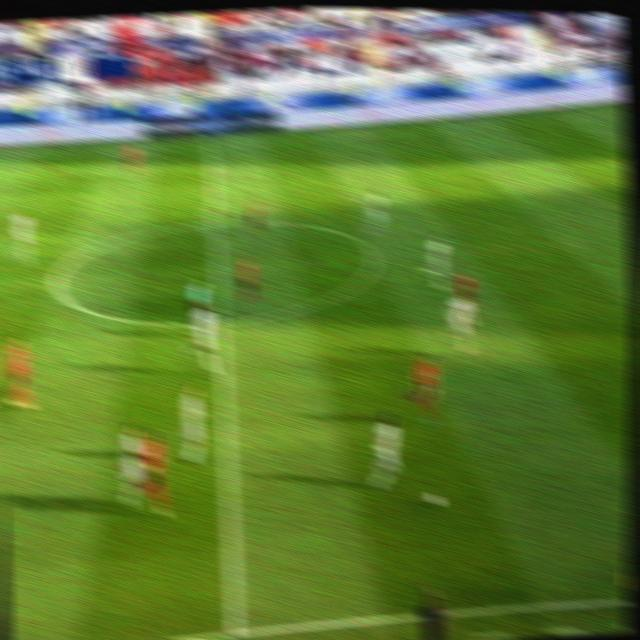halfcircle_bottom: (205, 304, 235, 338)
halfcircle_top: (198, 207, 230, 239)
midline_bottom_intersection: (216, 608, 252, 640)
midline_top_intersection: (199, 133, 222, 158)
